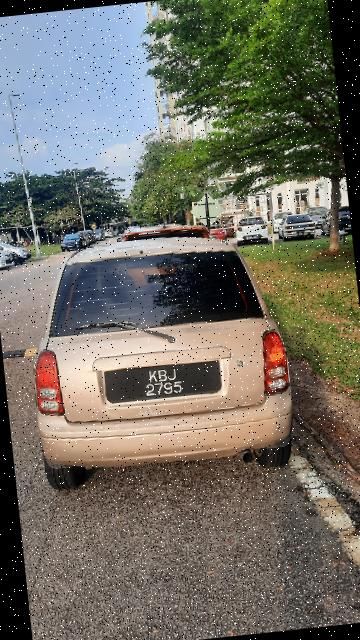License_Plate: (96, 356, 227, 414)
car: (10, 224, 313, 496)
